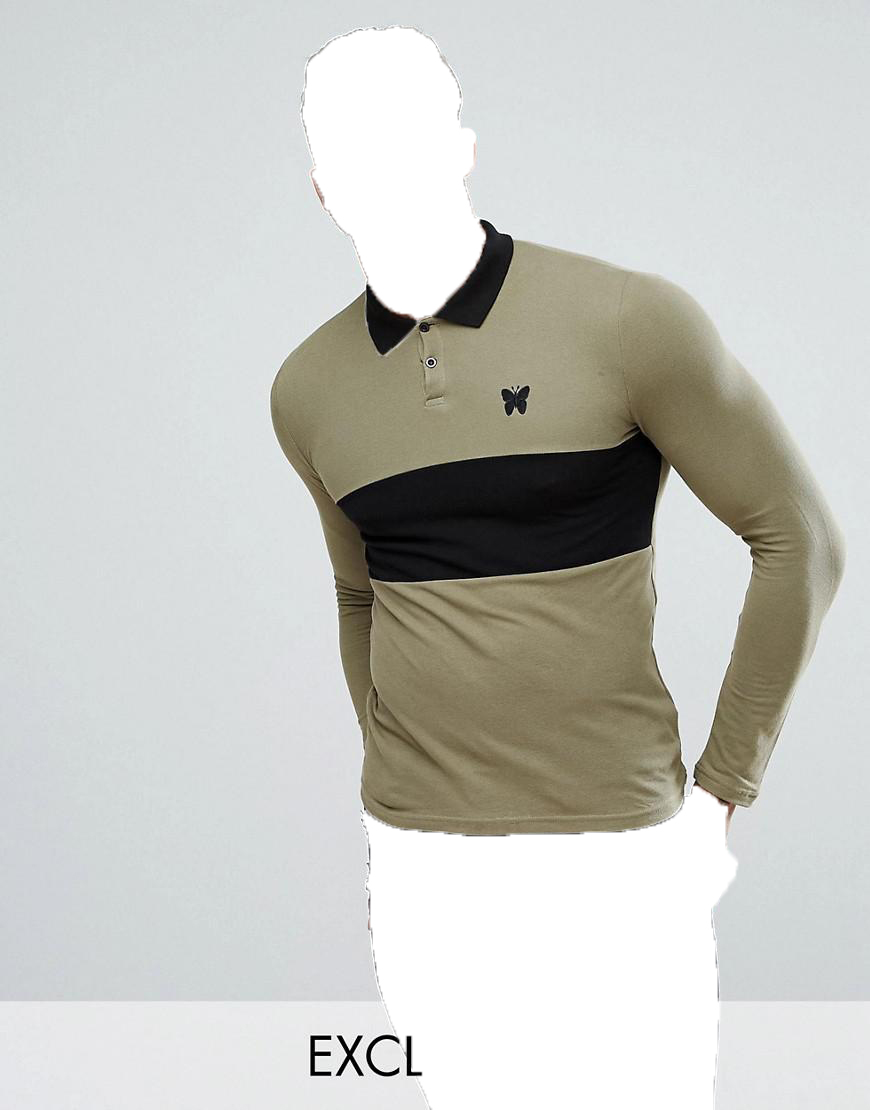teeshirt: (262, 225, 846, 879)
